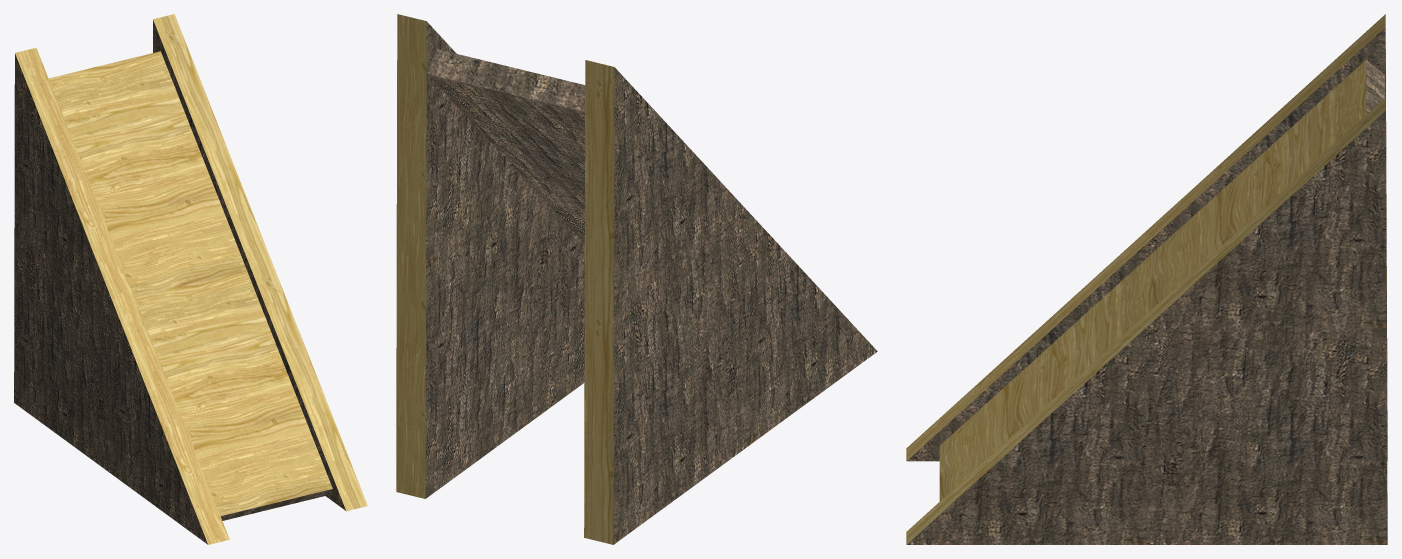
The model's file is construction_wood_stairs_straight_mesh_lod2.fbx.
The picture shows the model from 3 angles, left to right: view 1: azimuth 30°, elevation 25°; view 2: azimuth 150°, elevation 25°; view 3: azimuth 270°, elevation 25°; orthographic projection. The views are drawn at different scales.
Parts seen in each view (by area): view 1: construction_wood_stairs_straight_mesh; view 2: construction_wood_stairs_straight_mesh; view 3: construction_wood_stairs_straight_mesh.
Part boxes in pixels (x1=…): construction_wood_stairs_straight_mesh: x1=14, y1=14, x2=367, y2=544; construction_wood_stairs_straight_mesh: x1=396, y1=14, x2=877, y2=544; construction_wood_stairs_straight_mesh: x1=906, y1=14, x2=1387, y2=544.
Size of the model in its own units: 151 by 316 by 317.
